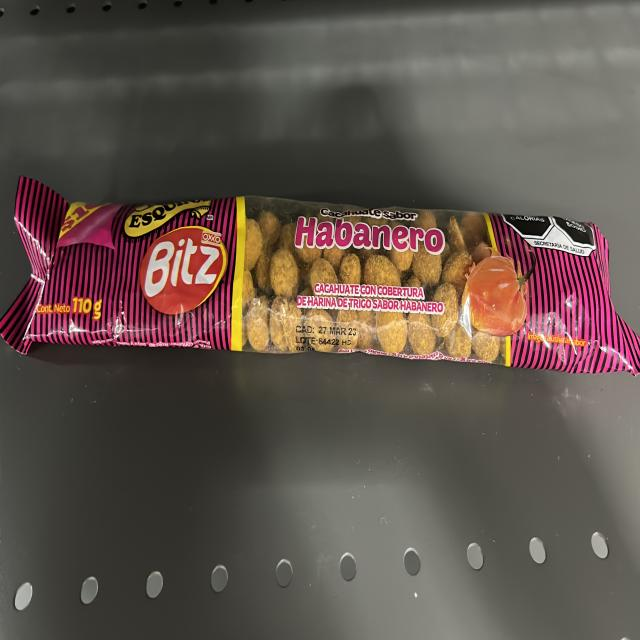bitzHabanero: (24, 213, 606, 371)
